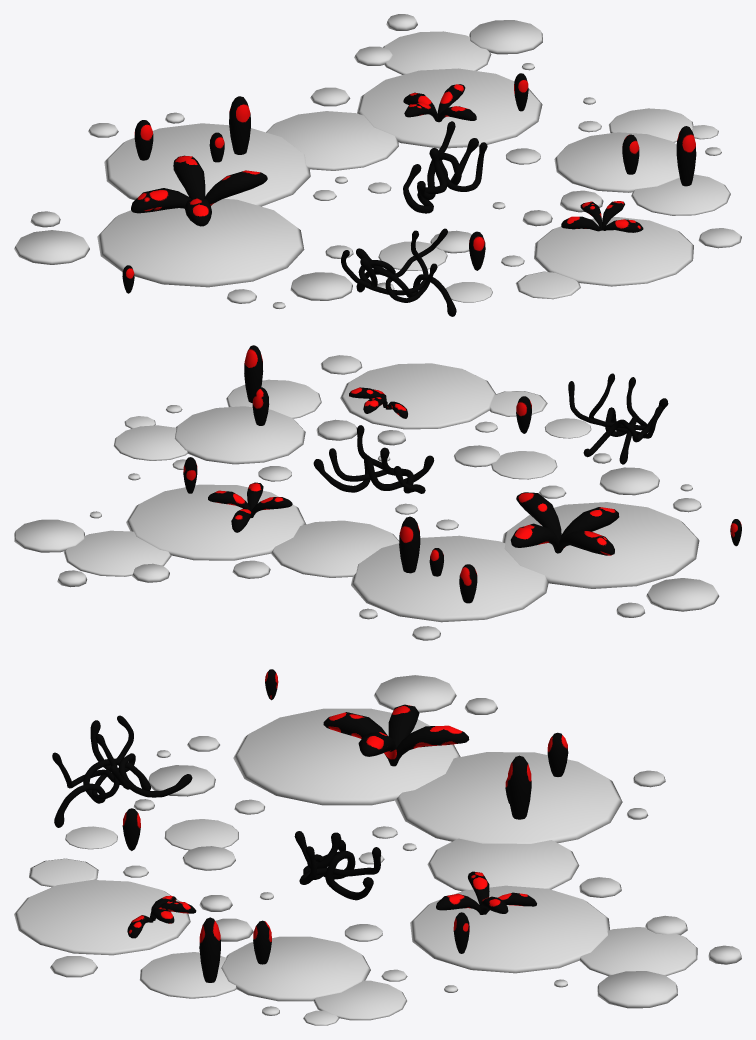
Rendered from CorruptionSet_2.fbx.
The picture shows the model from 3 angles, top to bottom: view 1: azimuth 30°, elevation 25°; view 2: azimuth 150°, elevation 25°; view 3: azimuth 270°, elevation 25°; orthographic projection. The views are drawn at different scales.
Parts seen in each view (by area): view 1: Circles, Flowers, Spirals, Blobs; view 2: Circles, Flowers, Spirals, Blobs; view 3: Circles, Flowers, Spirals, Blobs.
Part boxes in pixels (left/top/right/bottom): Circles: left=14, top=14, right=741, bottom=308; Flowers: left=131, top=84, right=643, bottom=232; Spirals: left=341, top=121, right=487, bottom=316; Blobs: left=122, top=73, right=696, bottom=293; Circles: left=14, top=355, right=719, bottom=640; Flowers: left=208, top=387, right=619, bottom=555; Spirals: left=313, top=373, right=668, bottom=493; Blobs: left=183, top=345, right=741, bottom=603; Circles: left=14, top=675, right=741, bottom=1025; Flowers: left=127, top=704, right=536, bottom=938; Spirals: left=52, top=715, right=380, bottom=900; Blobs: left=122, top=669, right=568, bottom=982.
Bounding box in the file's own units: 738 × 85.2 × 654.
